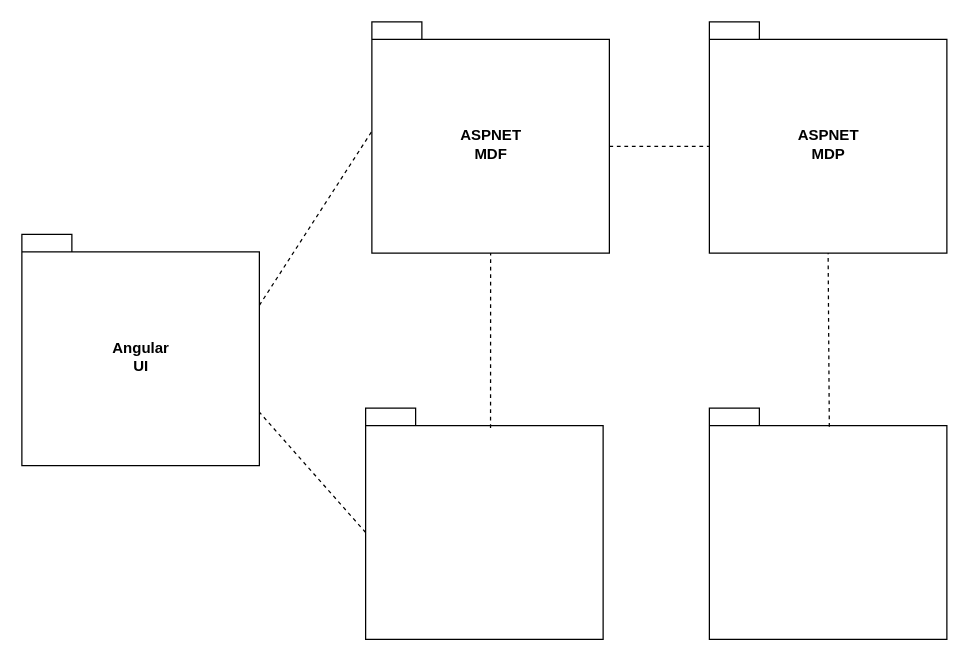
Image size: 969x661. Some labels were removed from this diagram. The shapes that lost their labels are listed below. From the top down, each one's centre as x and y in pixels, then its label:
pixel 483 523: BD MDF
pixel 827 523: BD MDP
